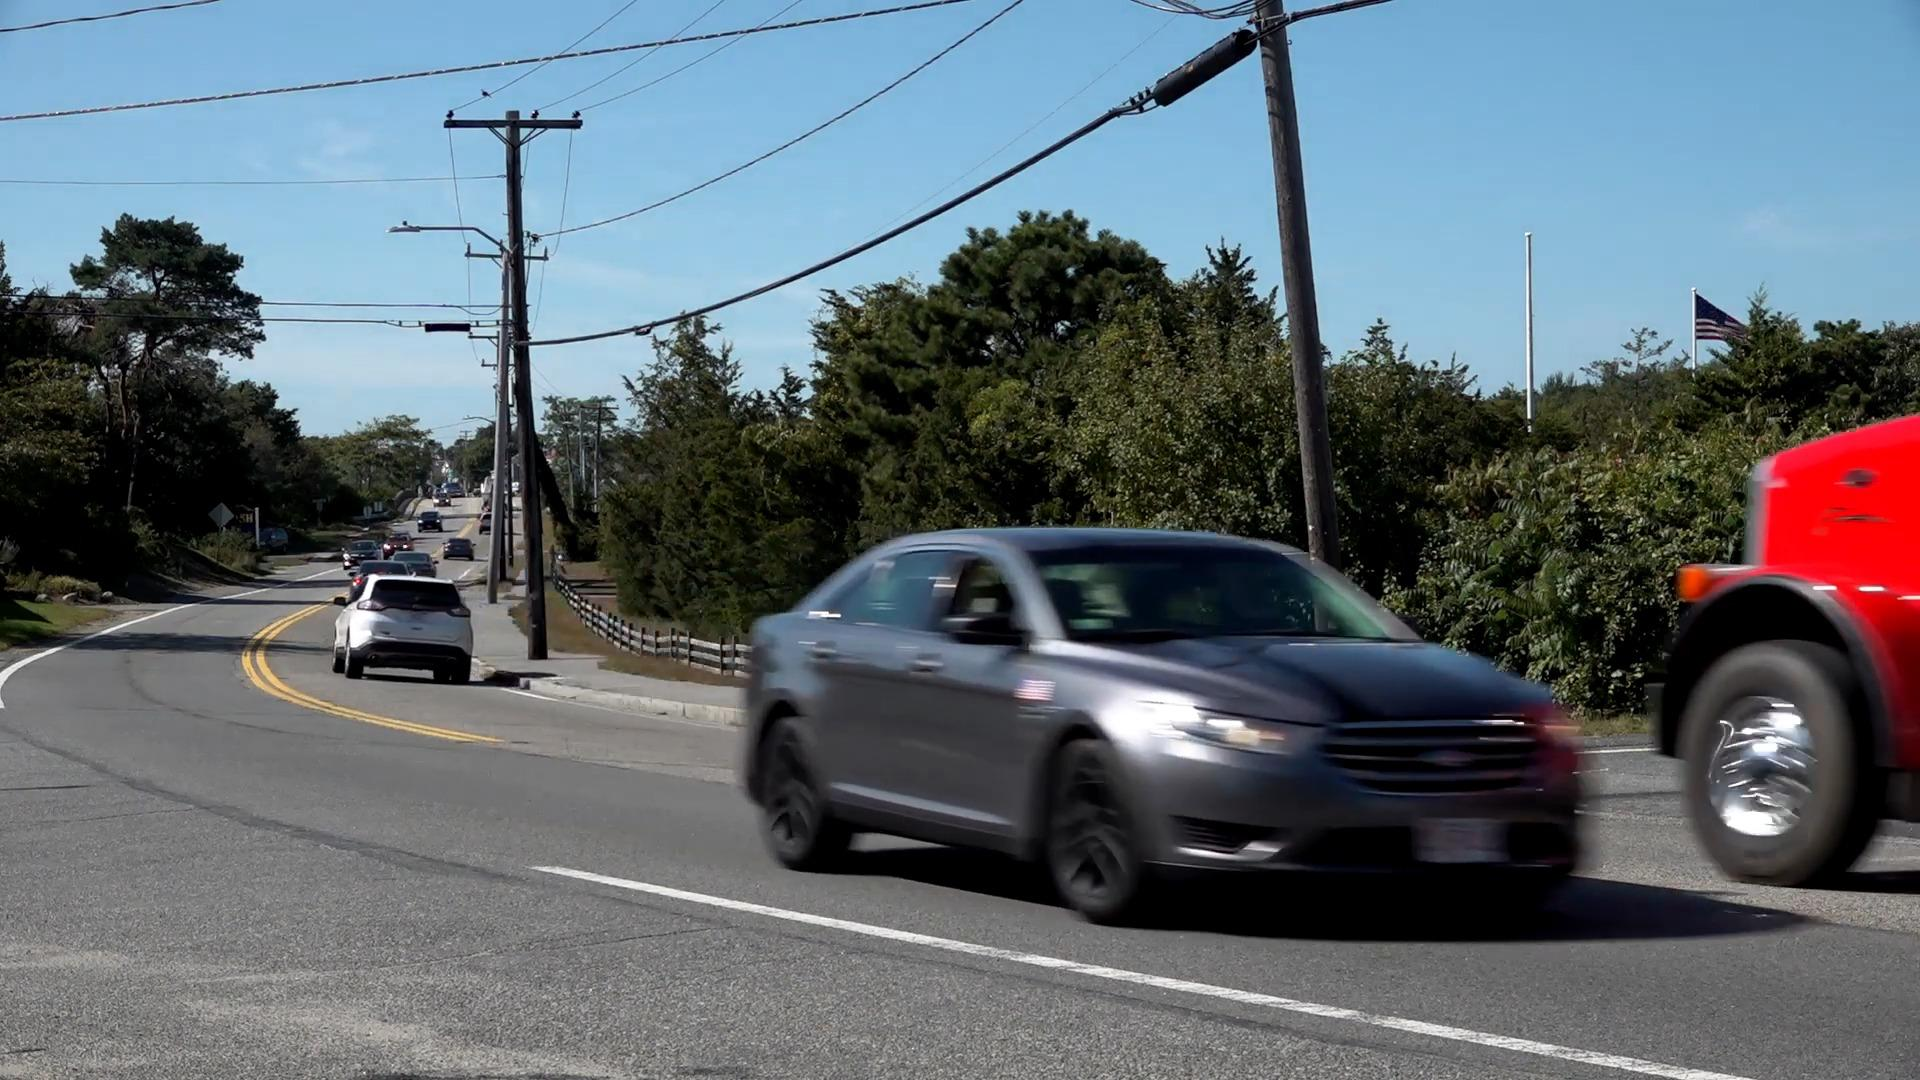sedans: (748, 524, 1593, 932)
suv: (332, 576, 475, 688)
truck: (1643, 407, 1920, 889)
